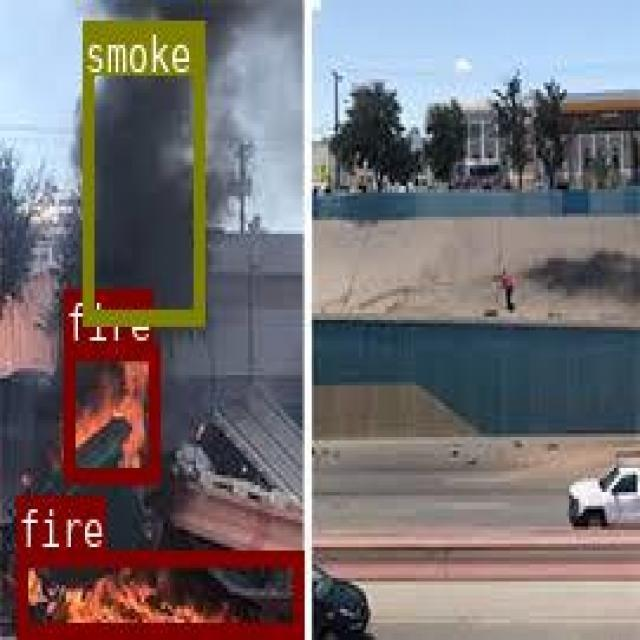fire: (16, 549, 300, 633), (63, 343, 158, 480)
smoke: (82, 21, 201, 323)
